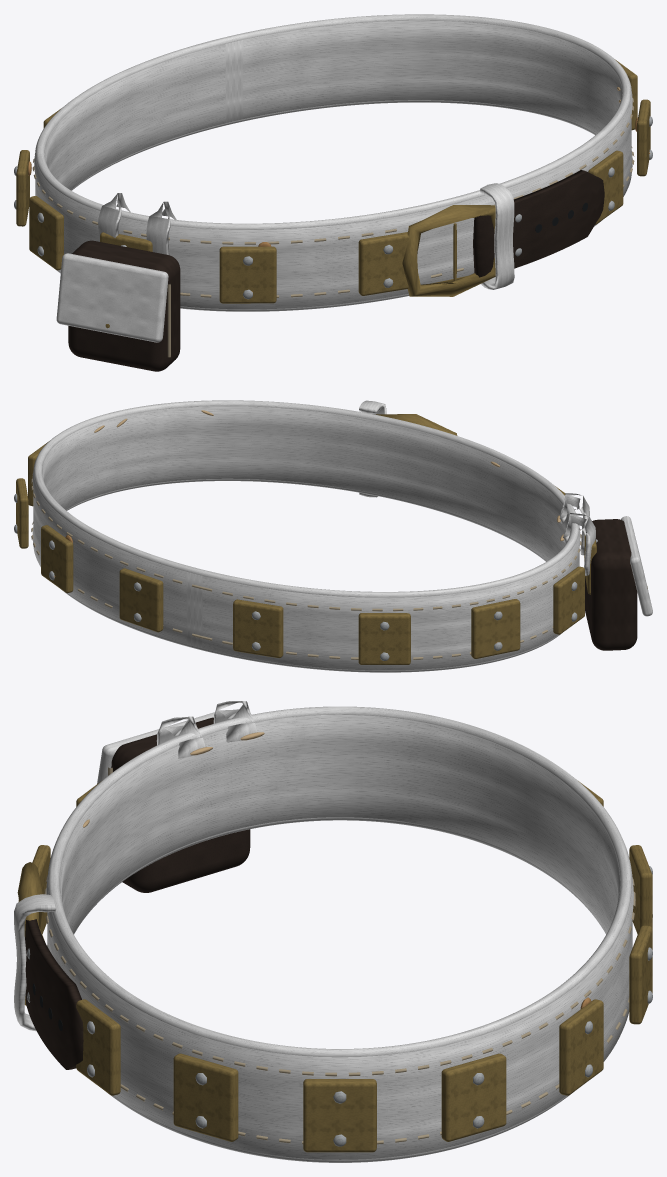
3 views of the same model, one above another, from view 1: azimuth 30°, elevation 25°; view 2: azimuth 150°, elevation 25°; view 3: azimuth 270°, elevation 25° (orthographic). The views are drawn at different scales.
Parts seen in each view (by area): view 1: oiled strap leather, aged alloy edge, tanned leather, waxed linen thread, polished fluted plate; view 2: oiled strap leather, aged alloy edge, tanned leather, waxed linen thread, polished fluted plate; view 3: oiled strap leather, aged alloy edge, tanned leather, waxed linen thread, polished fluted plate.
Part boxes in pixels (box(x1,y1,x2,y2)): oiled strap leather: box(34, 14, 632, 342); aged alloy edge: box(16, 59, 650, 328); tanned leather: box(68, 170, 604, 371); waxed linen thread: box(32, 93, 634, 357); polished fluted plate: box(14, 116, 652, 299); oiled strap leather: box(32, 400, 652, 672); aged alloy edge: box(16, 414, 647, 664); tanned leather: box(585, 519, 637, 650); waxed linen thread: box(31, 472, 581, 659); polished fluted plate: box(14, 493, 597, 660); oiled strap leather: box(14, 701, 633, 1162); aged alloy edge: box(17, 781, 652, 1152); tanned leather: box(25, 717, 250, 1069); waxed linen thread: box(44, 767, 635, 1144); polished fluted plate: box(27, 866, 652, 1146).
Bounding box in the file's own units: 0.4281 × 0.0948 × 0.2948.
8 materials, 5 textured.
